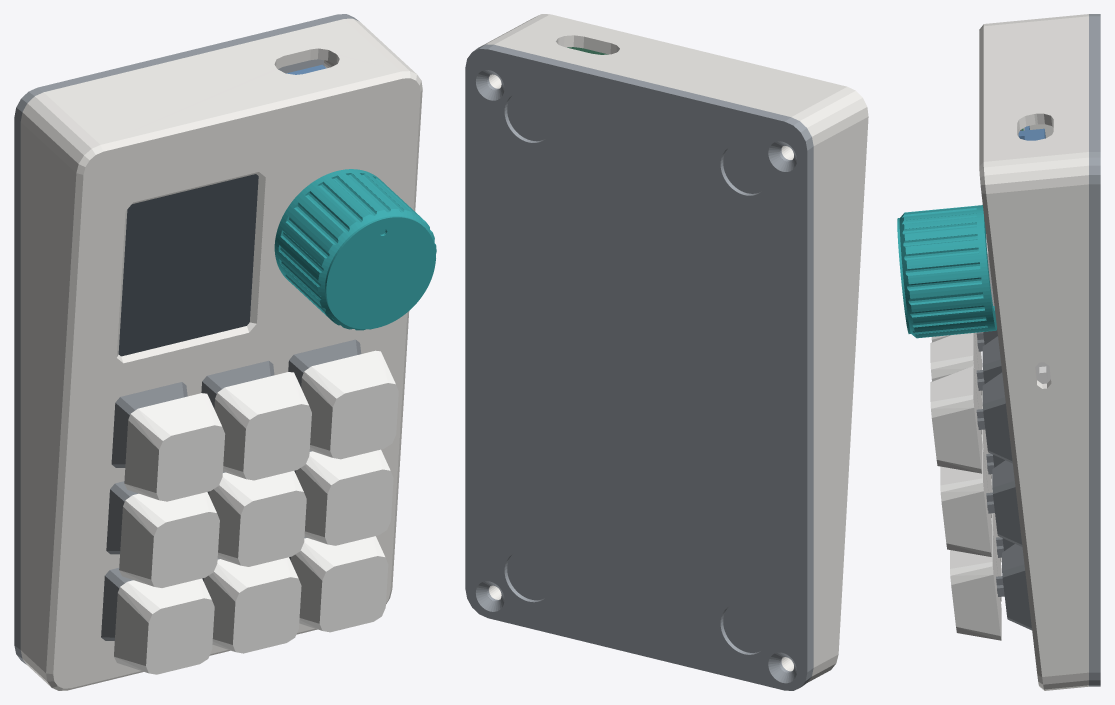
File: viewer_A.glb
3 renders of one model, left to right at view 1: azimuth 30°, elevation 25°; view 2: azimuth 150°, elevation 25°; view 3: azimuth 270°, elevation 25°, orthographic. The views are drawn at different scales.
Parts seen in each view (by area): view 1: top, keycaps, display, knob, switches, bottom; view 2: bottom, top; view 3: top, keycaps, knob, bottom, switches.
Boxes of the visible parts, x1,y1,x2,y2 form: top: (20, 18, 422, 690); keycaps: (114, 350, 398, 674); display: (118, 174, 258, 356); knob: (274, 169, 436, 330); switches: (101, 339, 361, 640); bottom: (14, 14, 359, 664); bottom: (465, 44, 813, 690); top: (480, 14, 868, 682); top: (979, 14, 1088, 690); keycaps: (930, 332, 1001, 640); knob: (897, 205, 996, 338); bottom: (1089, 14, 1100, 686); switches: (976, 329, 1031, 630).
Bounding box in the file's own units: 76.3 × 122 × 41.82.
